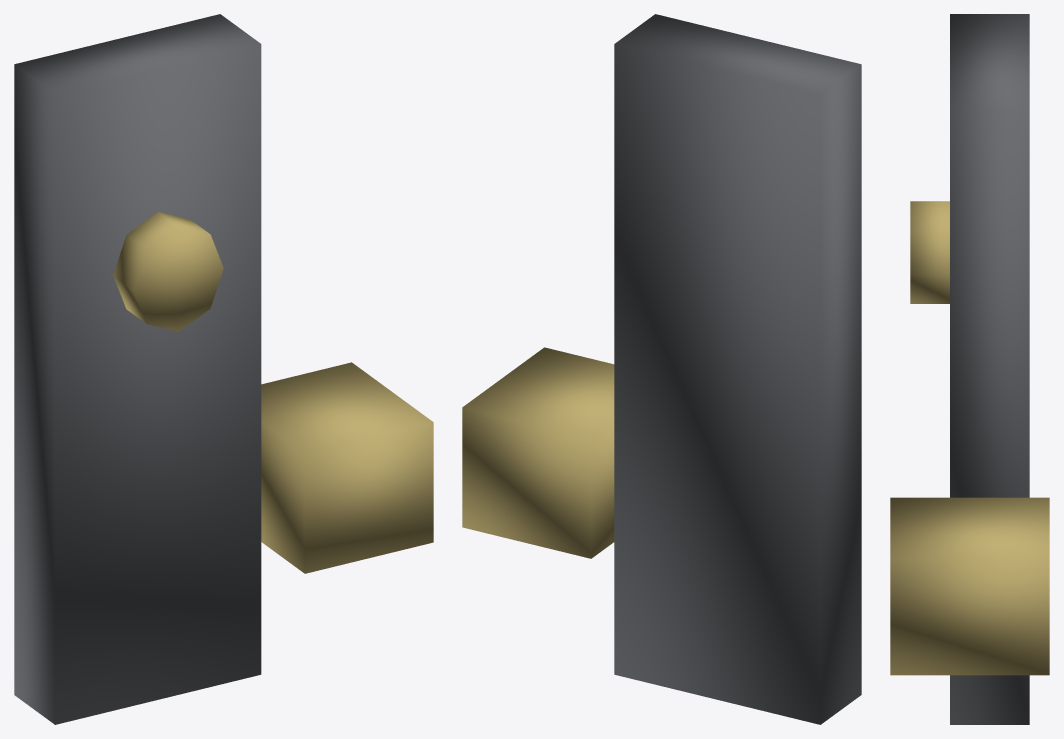
The model's file is elevator_call_05.glb.
3 renders of one model, left to right at view 1: azimuth 30°, elevation 25°; view 2: azimuth 150°, elevation 25°; view 3: azimuth 270°, elevation 25°, orthographic. The views are drawn at different scales.
Parts seen in each view (by area): view 1: world; view 2: world; view 3: world.
Boxes of the visible parts, x1,y1,x2,y2 form: world: (14, 14, 433, 724); world: (462, 14, 861, 724); world: (890, 14, 1049, 724).
Bounding box in the file's own units: 0.2376 × 0.4116 × 0.097.
